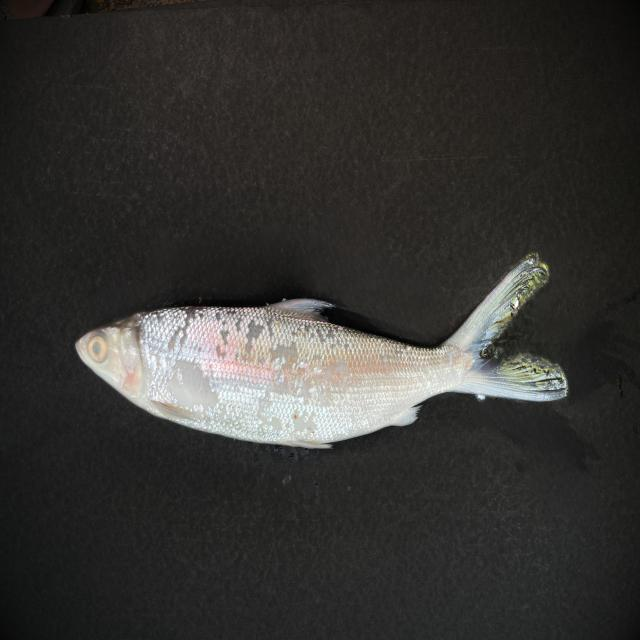675 g: (75, 257, 568, 449)
